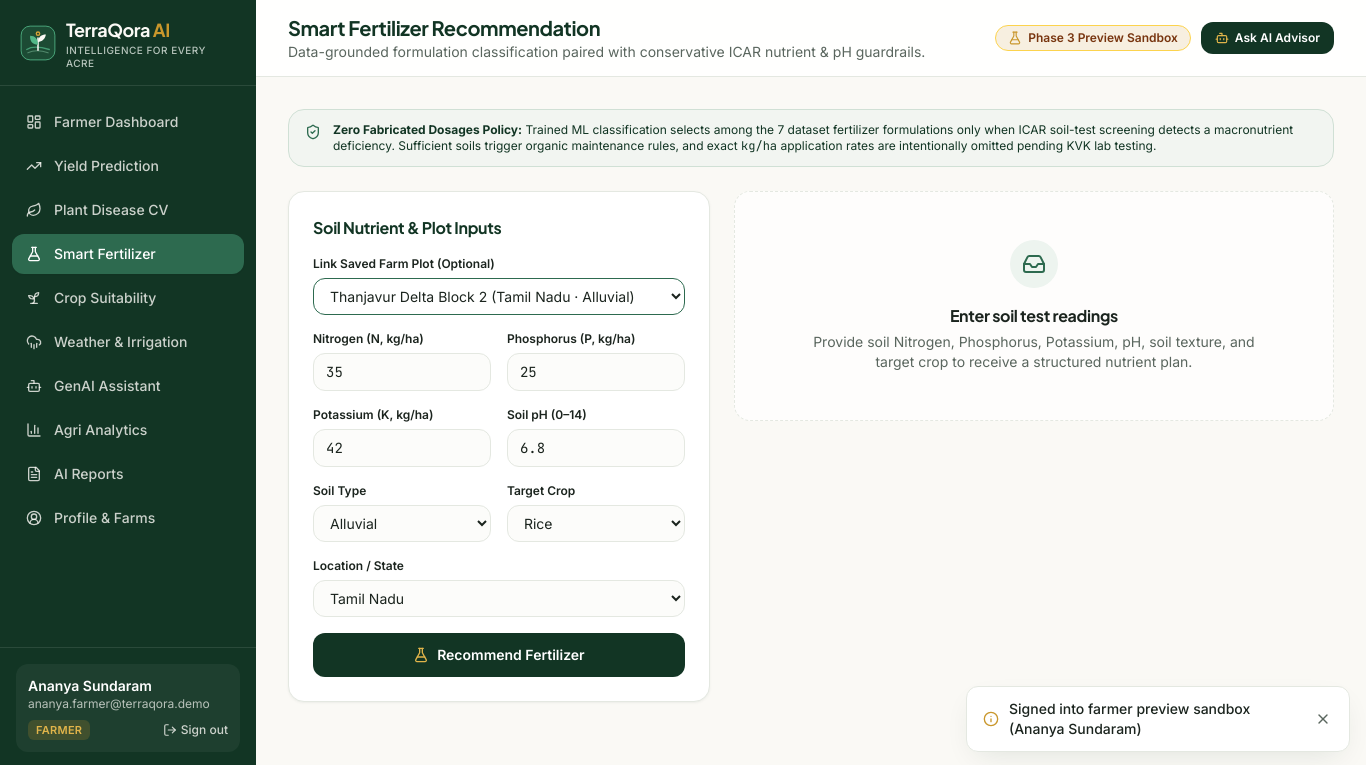
Scenario: TerraQora AI — Phase 3 Frontend Suite › computes Smart Fertilizer Plan (with sufficiency guardrail & farm link) and Crop Recommendation suitability results
Earlier steps of the test are not shown.
Expected: the dropdown labelled "Soil Type" shows "Alluvial", [313, 505, 491, 542]
Click the button "Recommend Fertilizer".
click(499, 655)  # box [313, 633, 685, 677]
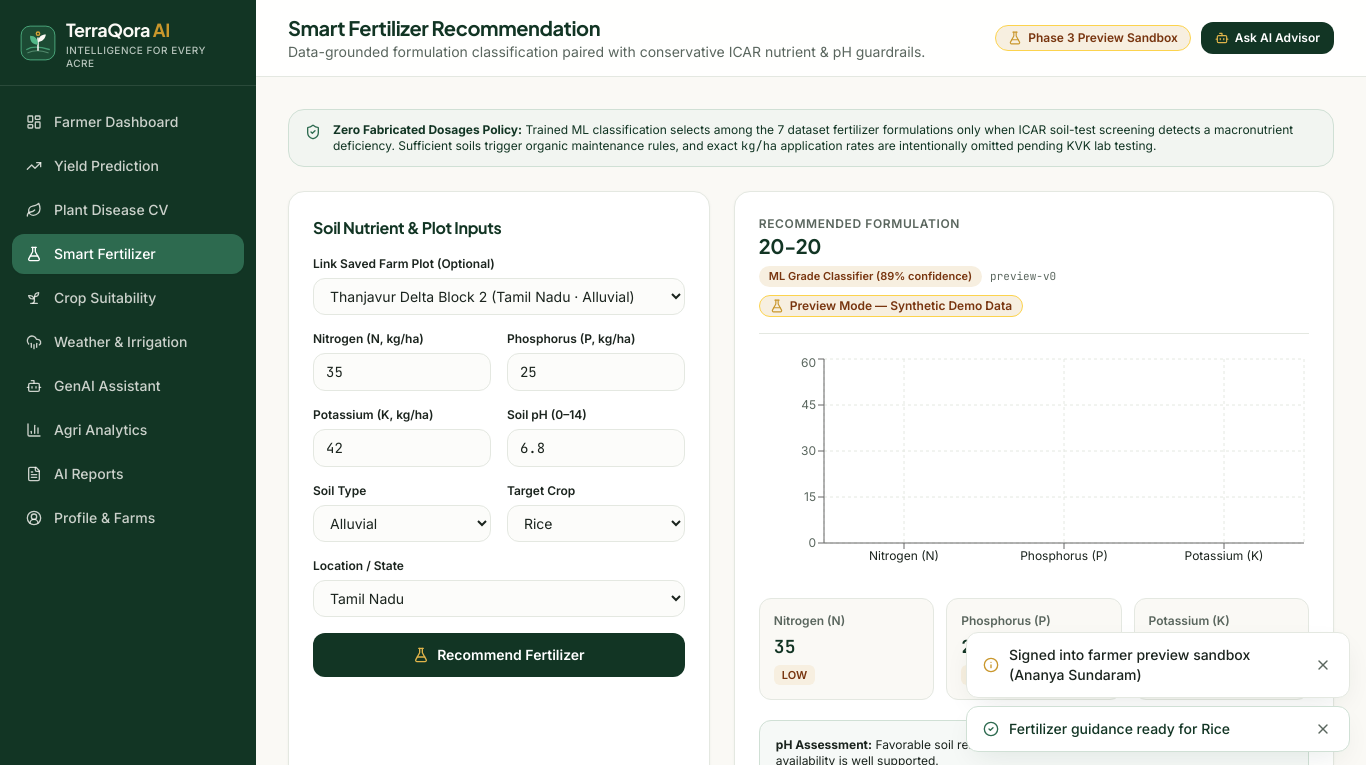
Expected: the text "Recommended Formulation" is shown, [759, 216, 960, 231]
Replace the text in the number field labelled "Nitrogen (N, kg/ha)" with "75" at (402, 372), box [313, 353, 491, 391]
Replace the text in the number field labelled "Phosphorus (P, kg/ha)" with "50" at (596, 372), box [507, 353, 685, 391]
Replace the text in the number field labelled "Potassium (K, kg/ha)" with "55" at (402, 448), box [313, 429, 491, 467]
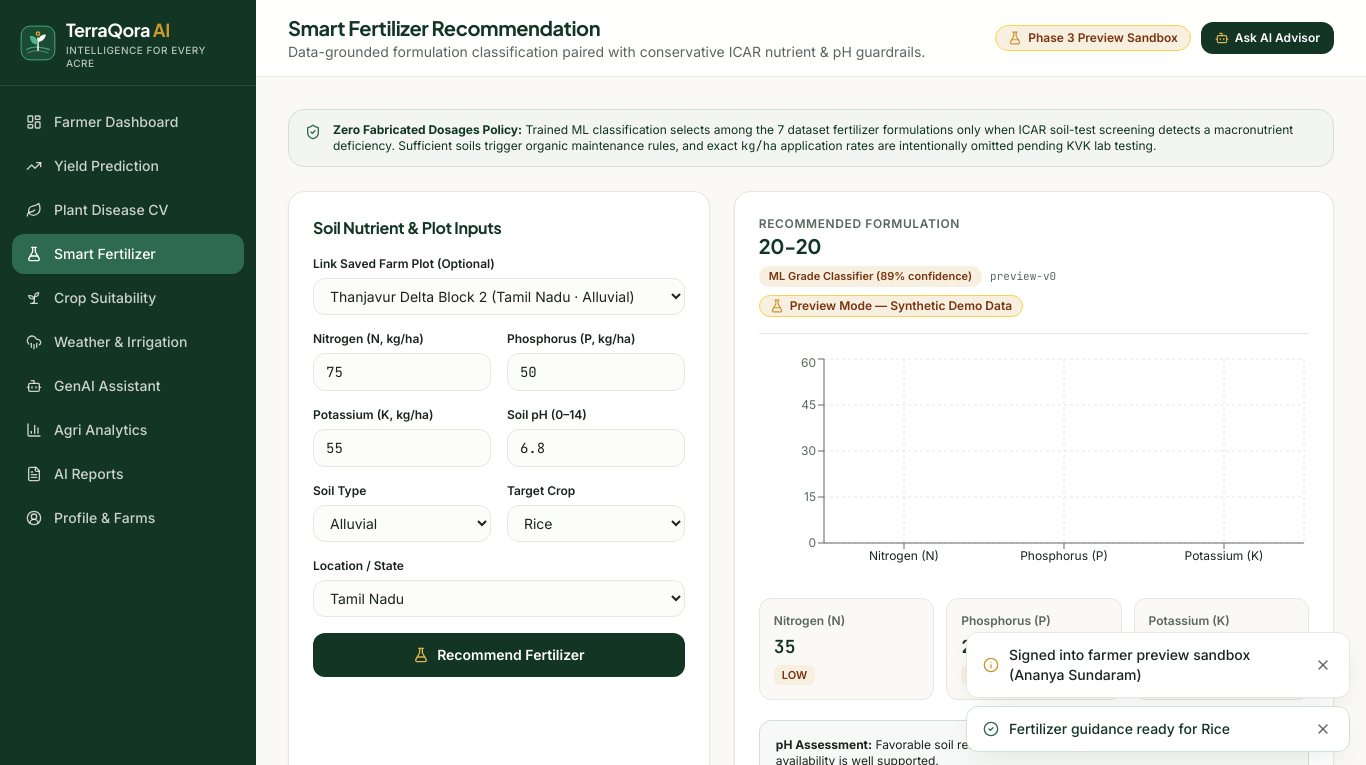
Click the button "Recommend Fertilizer".
click(499, 655)  # box [313, 633, 685, 677]
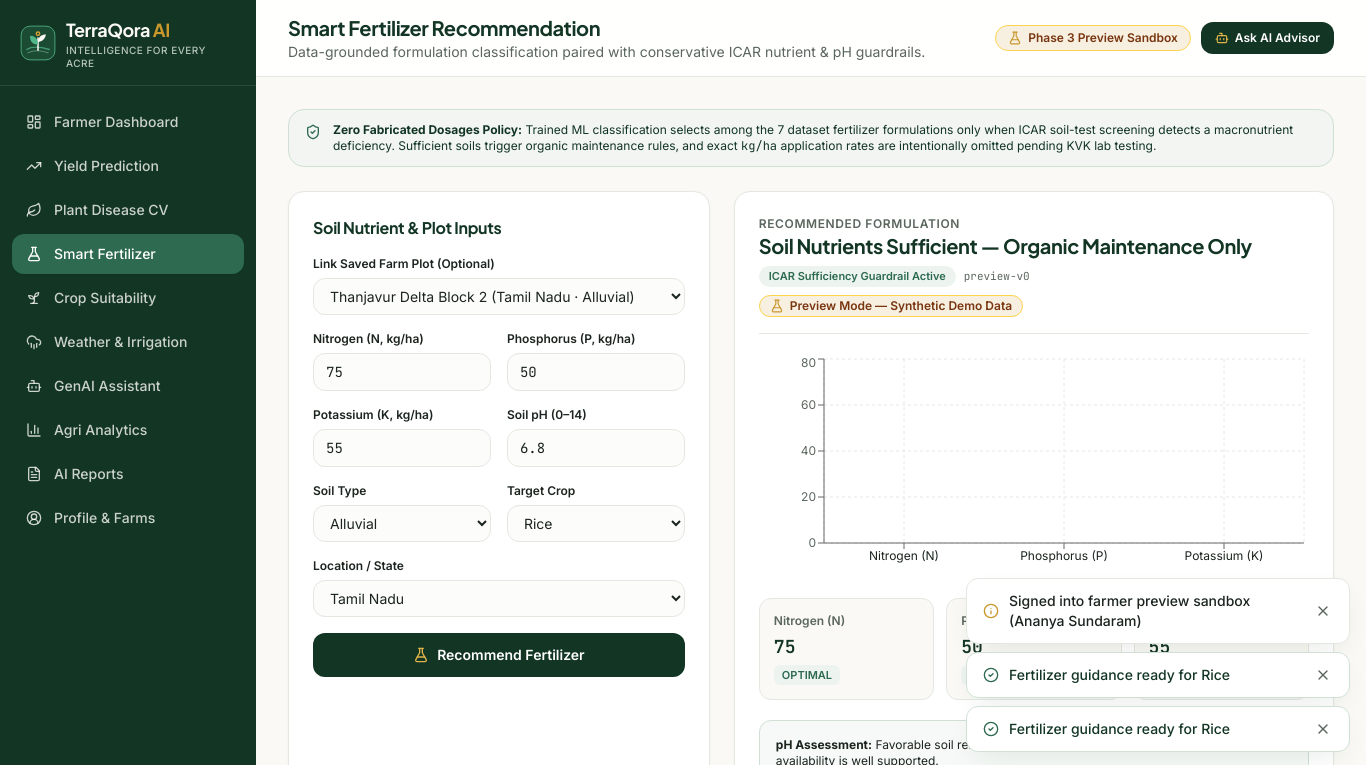
Expected: the text "ICAR Sufficiency Guardrail Active" is shown, [759, 266, 956, 286]
Click the link "Crop Suitability".
click(91, 298)  # box [26, 289, 156, 306]
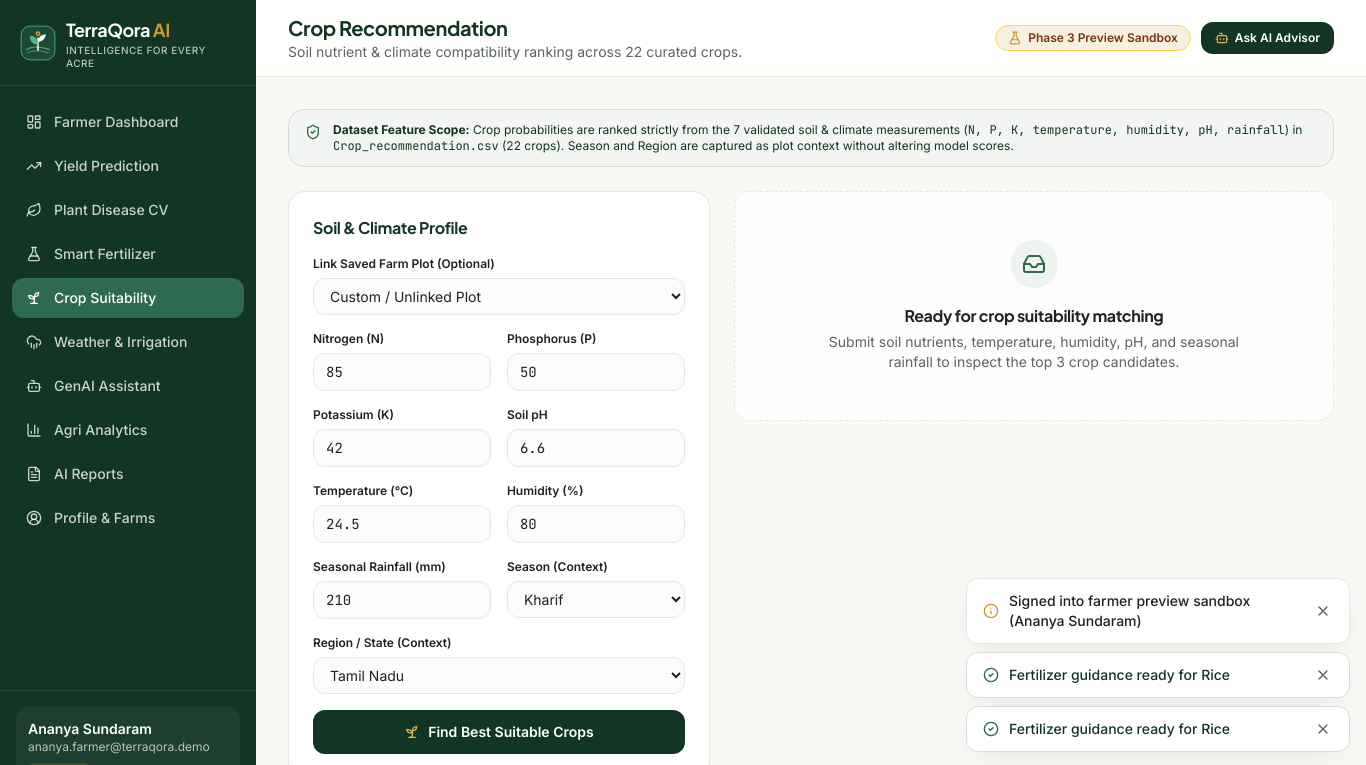
Expected: the text "Dataset Feature Scope:" is shown, [333, 122, 470, 137]
Select "Pollachi North Plot A (Tamil Nadu · pH 6.4)" in the dropdown labelled "Link Saved Farm Plot (Optional)" at (499, 296), box [313, 278, 685, 315]
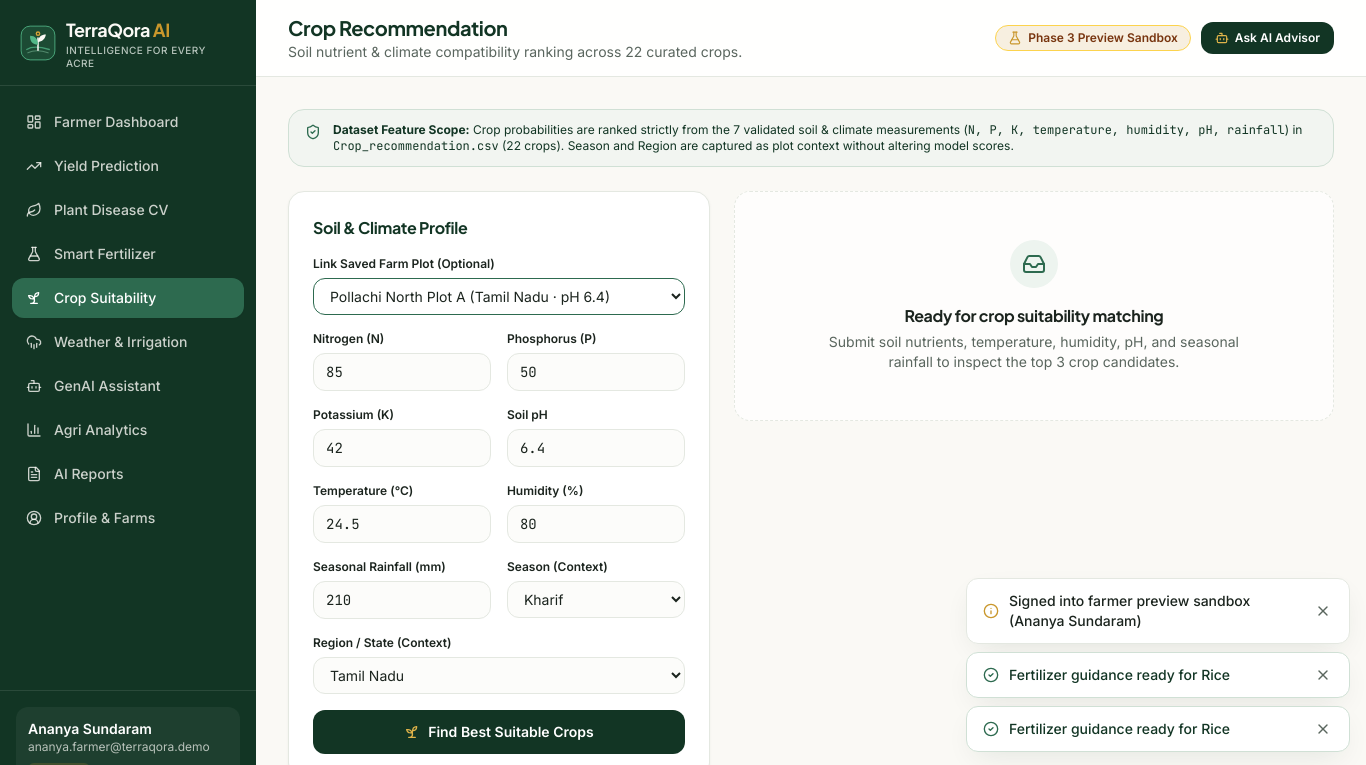
Click the button "Find Best Suitable Crops".
click(499, 732)  # box [313, 710, 685, 754]
(page scrolled)
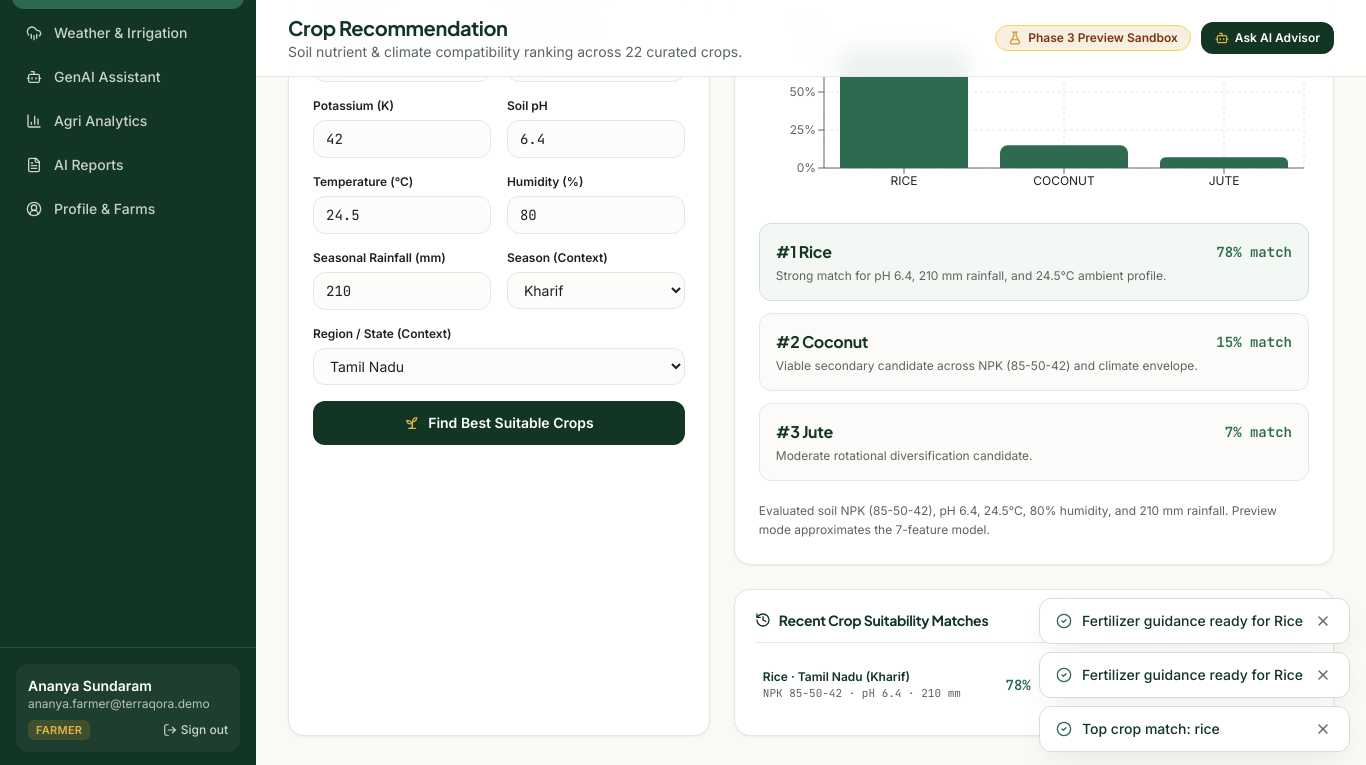
Expected: the heading "Recent Crop Suitability Matches" is shown, [779, 610, 988, 630]
